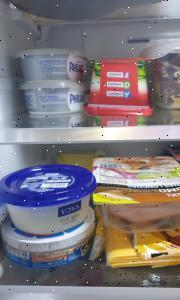Mantequilla: (84, 60, 154, 116)
